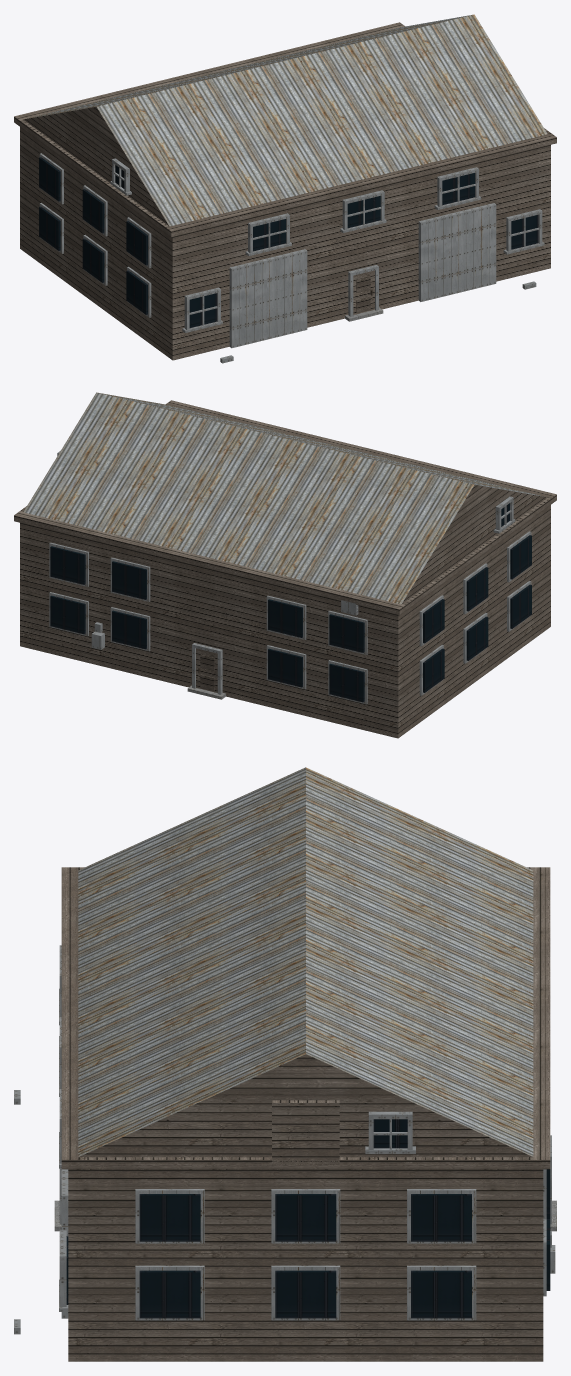
The model's file is harbor-boathouse_lod0.gltf.
The picture shows the model from 3 angles, top to bottom: view 1: azimuth 30°, elevation 25°; view 2: azimuth 150°, elevation 25°; view 3: azimuth 270°, elevation 25°; orthographic projection. The views are drawn at different scales.
Visible parts, largest first — view 1: harbor-boathouse_roof, harbor-boathouse_walls, harbor-boathouse__eave_band, harbor-boathouse_fen_07-glass-curtain-blue_5_t, harbor-boathouse_fen_14-steel-panel_0, harbor-boathouse__slip_door_a, harbor-boathouse__slip_door_b, harbor-boathouse_gable_ends, harbor-boathouse_fen_18-timber-siding_1; view 2: harbor-boathouse_roof, harbor-boathouse_walls, harbor-boathouse_fen_07-glass-curtain-blue_5_t, harbor-boathouse__eave_band, harbor-boathouse_fen_14-steel-panel_0, harbor-boathouse_gable_ends, harbor-boathouse_fen_18-timber-siding_1; view 3: harbor-boathouse_roof, harbor-boathouse_walls, harbor-boathouse_fen_07-glass-curtain-blue_5_t, harbor-boathouse_gable_ends, harbor-boathouse__eave_band, harbor-boathouse_fen_14-steel-panel_0, harbor-boathouse__loft_door.
Boxes of the visible parts, box(x1,y1,x2,y2) form: harbor-boathouse_roof: box(26, 14, 547, 226); harbor-boathouse_walls: box(20, 127, 550, 360); harbor-boathouse__eave_band: box(14, 22, 556, 237); harbor-boathouse_fen_07-glass-curtain-blue_5_t: box(39, 157, 538, 327); harbor-boathouse_fen_14-steel-panel_0: box(39, 153, 544, 332); harbor-boathouse__slip_door_a: box(229, 249, 307, 348); harbor-boathouse__slip_door_b: box(418, 203, 496, 301); harbor-boathouse_gable_ends: box(23, 107, 168, 225); harbor-boathouse_fen_18-timber-siding_1: box(353, 270, 374, 314); harbor-boathouse_roof: box(23, 392, 546, 604); harbor-boathouse_walls: box(20, 505, 550, 738); harbor-boathouse_fen_07-glass-curtain-blue_5_t: box(50, 503, 531, 702); harbor-boathouse__eave_band: box(14, 400, 556, 615); harbor-boathouse_fen_14-steel-panel_0: box(49, 450, 531, 704); harbor-boathouse_gable_ends: box(401, 485, 547, 604); harbor-boathouse_fen_18-timber-siding_1: box(196, 648, 217, 692); harbor-boathouse_roof: box(78, 767, 533, 1156); harbor-boathouse_walls: box(68, 1169, 543, 1361); harbor-boathouse_fen_07-glass-curtain-blue_5_t: box(66, 1119, 550, 1318); harbor-boathouse_gable_ends: box(79, 1054, 532, 1157); harbor-boathouse__eave_band: box(61, 867, 550, 1169); harbor-boathouse_fen_14-steel-panel_0: box(59, 945, 555, 1320); harbor-boathouse__loft_door: box(272, 1100, 339, 1164).
Bounding box in the file's own units: 20.55 × 10 × 16.
